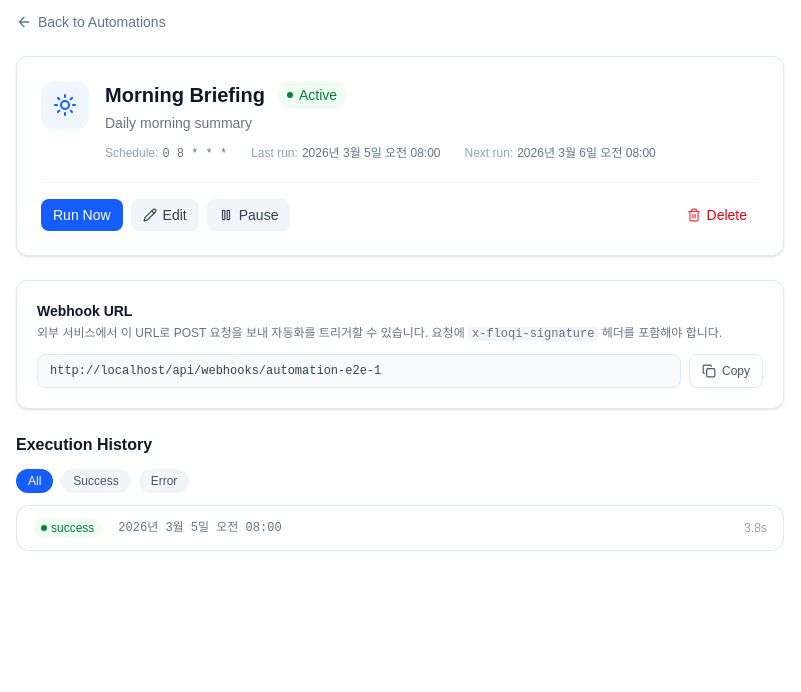
TC-6004: View execution log detail with tool_calls › clicking log entry expands to show result_summary and token count
Click the button that starts with "success": (68, 528) [17, 506, 783, 550]
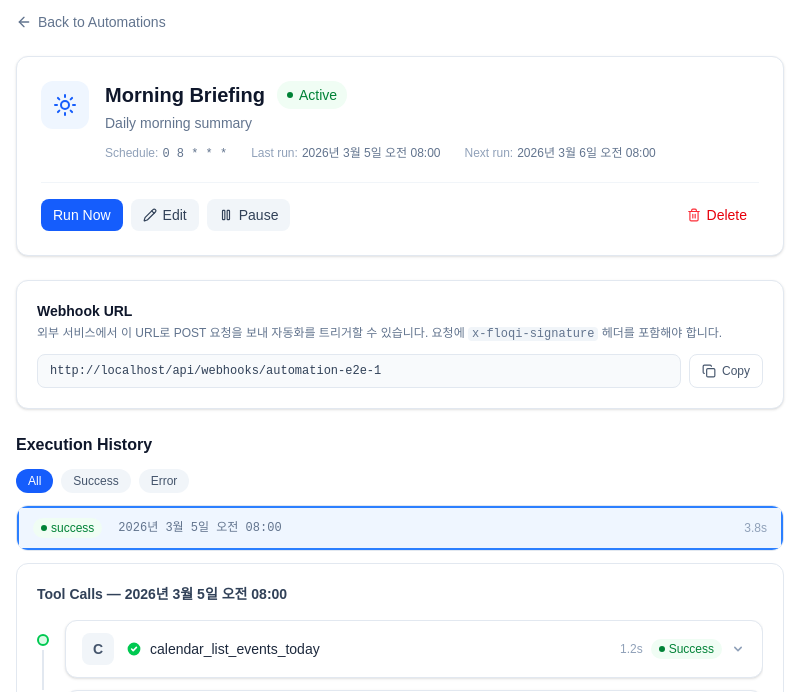
Check: the heading "Tool Calls" is shown, box [37, 586, 125, 602]
